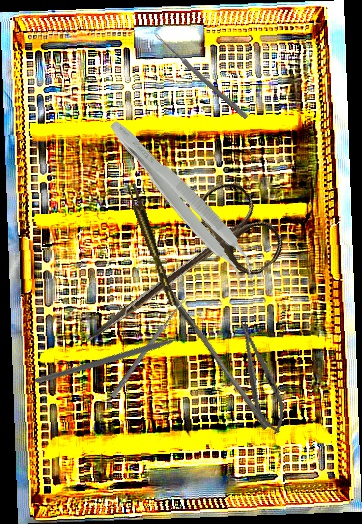Chopper: (34, 277, 203, 448)
Iris Scissors: (60, 173, 291, 383)
Needle Holder: (230, 317, 292, 438)
Pusher: (156, 283, 275, 431)
Surgical Spoon: (152, 32, 250, 120), (110, 295, 188, 399)
Tissue Forceps: (97, 113, 267, 292), (126, 181, 177, 309)
